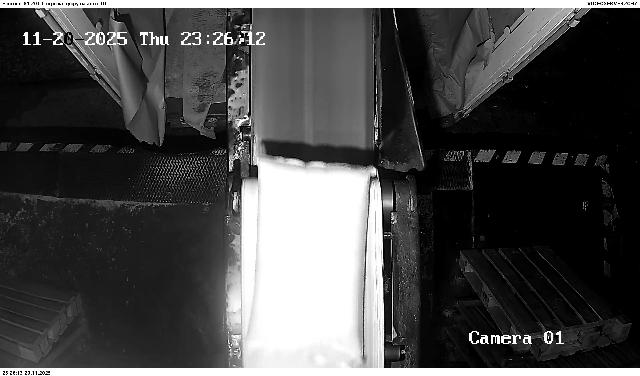bag: (246, 156, 378, 369)
